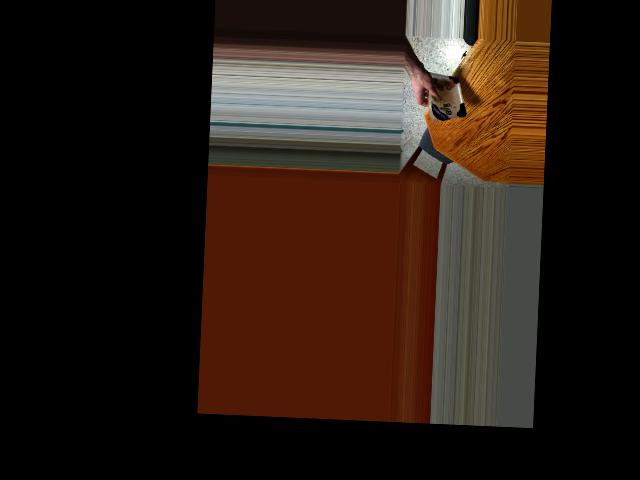cheese: (426, 66, 465, 124)
